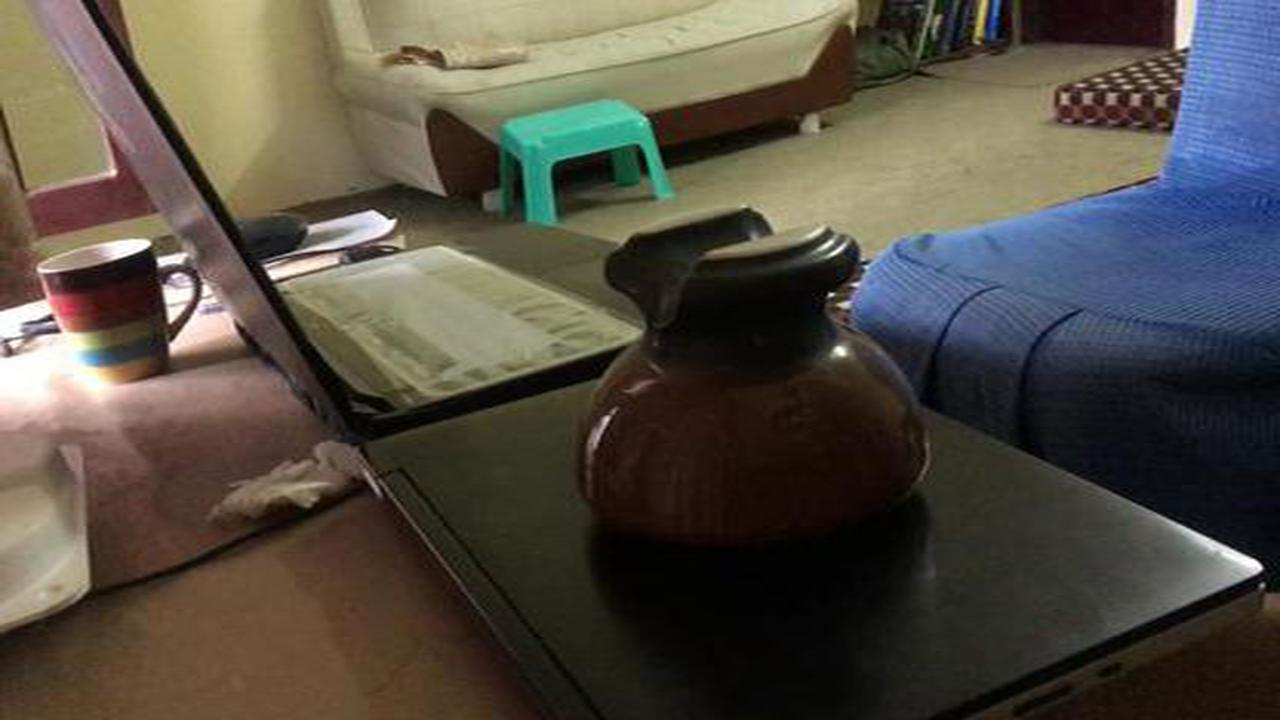insulator_pin: (548, 189, 961, 577)
